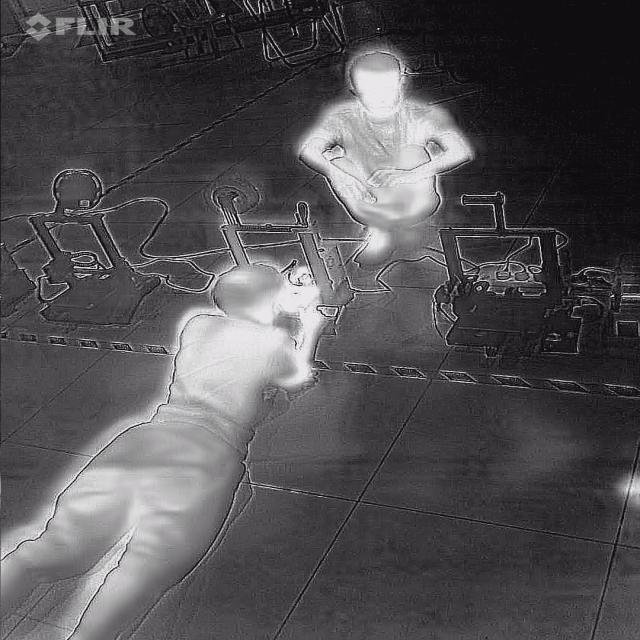Victim: (1, 249, 353, 637), (297, 38, 484, 265)
